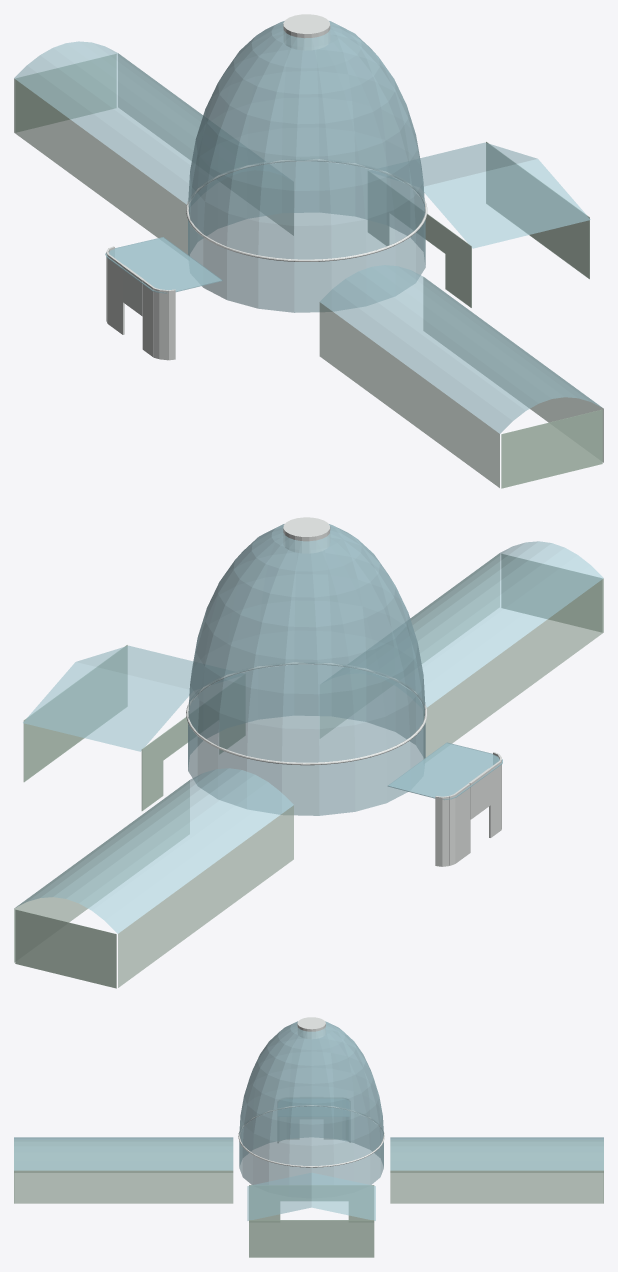
The model's file is Conservatory_Architectural_Study_LOD2.glb.
The picture shows the model from 3 angles, top to bottom: view 1: azimuth 30°, elevation 25°; view 2: azimuth 150°, elevation 25°; view 3: azimuth 270°, elevation 25°; orthographic projection. The views are drawn at different scales.
Parts seen in each view (by area): view 1: PalmHouse/DomeGlazing__glass, Wings/CurvedRoofGlass__glass, Wings/SideGlass__greenGlass, PalmHouse/DrumGlass__glass, ShowHouse/SlopedRoofGlass__glass, Wings/EndGlazing__greenGlass, ShowHouse/EndGlazing__greenGlass, Vestibule/WestFacadePiers__steel, Vestibule/TransparentRoof__glass, PalmHouse/DomeBaseCoping__steel, PalmHouse/LanternCap__steel, Vestibule/DoorHeader__steel; view 2: PalmHouse/DomeGlazing__glass, Wings/CurvedRoofGlass__glass, Wings/SideGlass__greenGlass, PalmHouse/DrumGlass__glass, ShowHouse/SlopedRoofGlass__glass, Wings/EndGlazing__greenGlass, ShowHouse/EndGlazing__greenGlass, Vestibule/TransparentRoof__glass, Vestibule/WestFacadePiers__steel, PalmHouse/DomeBaseCoping__steel, PalmHouse/LanternCap__steel, Vestibule/DoorHeader__steel; view 3: Wings/SideGlass__greenGlass, PalmHouse/DomeGlazing__glass, Wings/CurvedRoofGlass__glass, ShowHouse/EndGlazing__greenGlass, PalmHouse/DrumGlass__glass, ShowHouse/SlopedRoofGlass__glass, Vestibule/WestFacadePiers__steel, PalmHouse/DomeBaseCoping__steel, PalmHouse/LanternCap__steel.
Boxes of the visible parts, box(x1,y1,x2,y2) form: PalmHouse/DomeGlazing__glass: box(188, 21, 425, 259); Wings/CurvedRoofGlass__glass: box(14, 41, 601, 433); Wings/SideGlass__greenGlass: box(14, 53, 603, 487); PalmHouse/DrumGlass__glass: box(188, 161, 425, 312); ShowHouse/SlopedRoofGlass__glass: box(399, 142, 590, 248); Wings/EndGlazing__greenGlass: box(15, 54, 602, 488); ShowHouse/EndGlazing__greenGlass: box(368, 141, 589, 307); Vestibule/WestFacadePiers__steel: box(106, 246, 175, 360); Vestibule/TransparentRoof__glass: box(105, 237, 222, 293); PalmHouse/DomeBaseCoping__steel: box(186, 159, 427, 261); PalmHouse/LanternCap__steel: box(283, 14, 330, 50); Vestibule/DoorHeader__steel: box(122, 265, 144, 316); PalmHouse/DomeGlazing__glass: box(188, 524, 425, 762); Wings/CurvedRoofGlass__glass: box(15, 541, 603, 933); Wings/SideGlass__greenGlass: box(14, 553, 603, 987); PalmHouse/DrumGlass__glass: box(188, 665, 425, 815); ShowHouse/SlopedRoofGlass__glass: box(23, 645, 193, 751); Wings/EndGlazing__greenGlass: box(15, 554, 602, 988); ShowHouse/EndGlazing__greenGlass: box(23, 645, 245, 810); Vestibule/TransparentRoof__glass: box(387, 742, 502, 800); Vestibule/WestFacadePiers__steel: box(435, 752, 501, 866); PalmHouse/DomeBaseCoping__steel: box(186, 662, 427, 765); PalmHouse/LanternCap__steel: box(283, 517, 330, 553); Vestibule/DoorHeader__steel: box(469, 768, 490, 819); Wings/SideGlass__greenGlass: box(14, 1140, 603, 1203); PalmHouse/DomeGlazing__glass: box(239, 1021, 383, 1165); Wings/CurvedRoofGlass__glass: box(14, 1137, 603, 1170); ShowHouse/EndGlazing__greenGlass: box(249, 1185, 374, 1257); PalmHouse/DrumGlass__glass: box(239, 1106, 383, 1184); ShowHouse/SlopedRoofGlass__glass: box(247, 1172, 375, 1220); Vestibule/WestFacadePiers__steel: box(277, 1097, 350, 1142); PalmHouse/DomeBaseCoping__steel: box(238, 1105, 384, 1167); PalmHouse/LanternCap__steel: box(297, 1017, 325, 1038).
Bounding box in the file's own units: 39.92 × 25.88 × 82.68.
